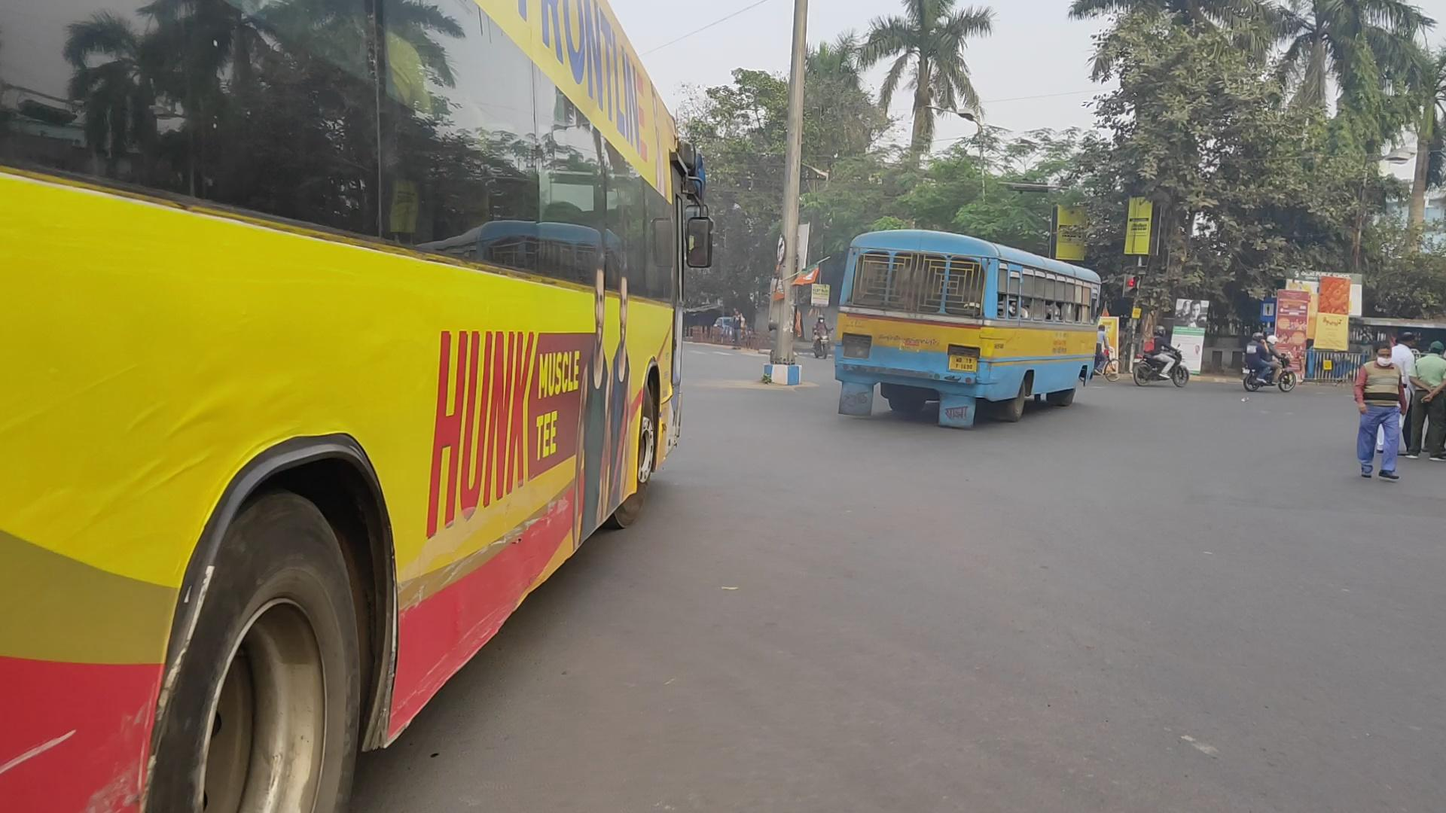Bus: (1, 2, 713, 813), (832, 230, 1101, 430)
bike: (1133, 324, 1190, 388), (1243, 332, 1297, 394), (811, 314, 834, 360)
